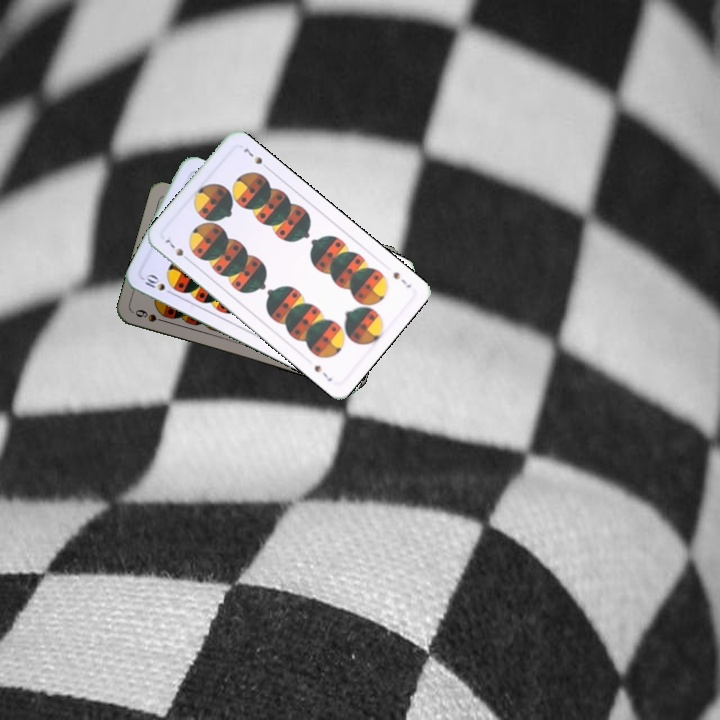S10: (141, 271, 177, 298)
S7: (162, 235, 193, 265), (389, 268, 414, 291)
S9: (131, 305, 170, 325)
